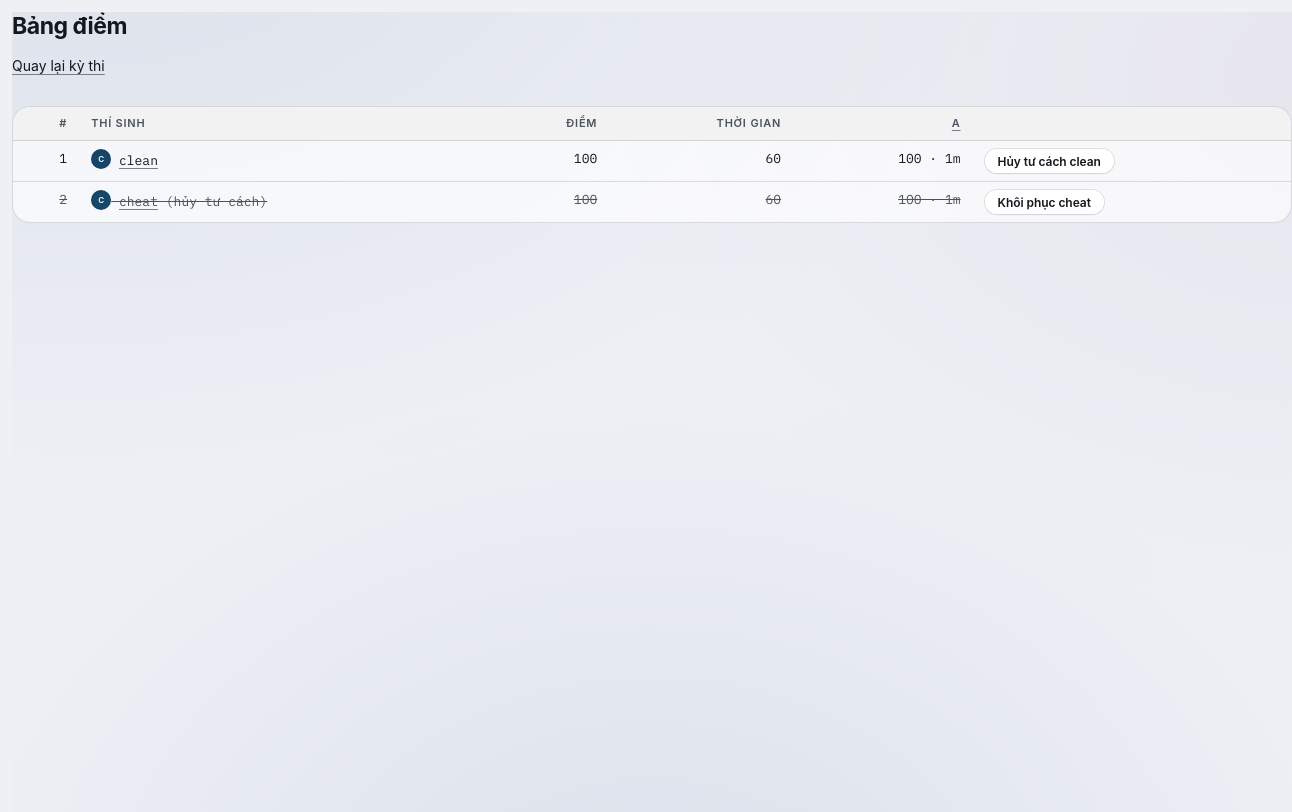
Test case: the DQ controls › report a refusal, and a transport failure never wedges the row
The image size is (1292, 812).
Click the button "Hủy tư cách clean".
click(1049, 162)  # box 985,150 -> 1114,174
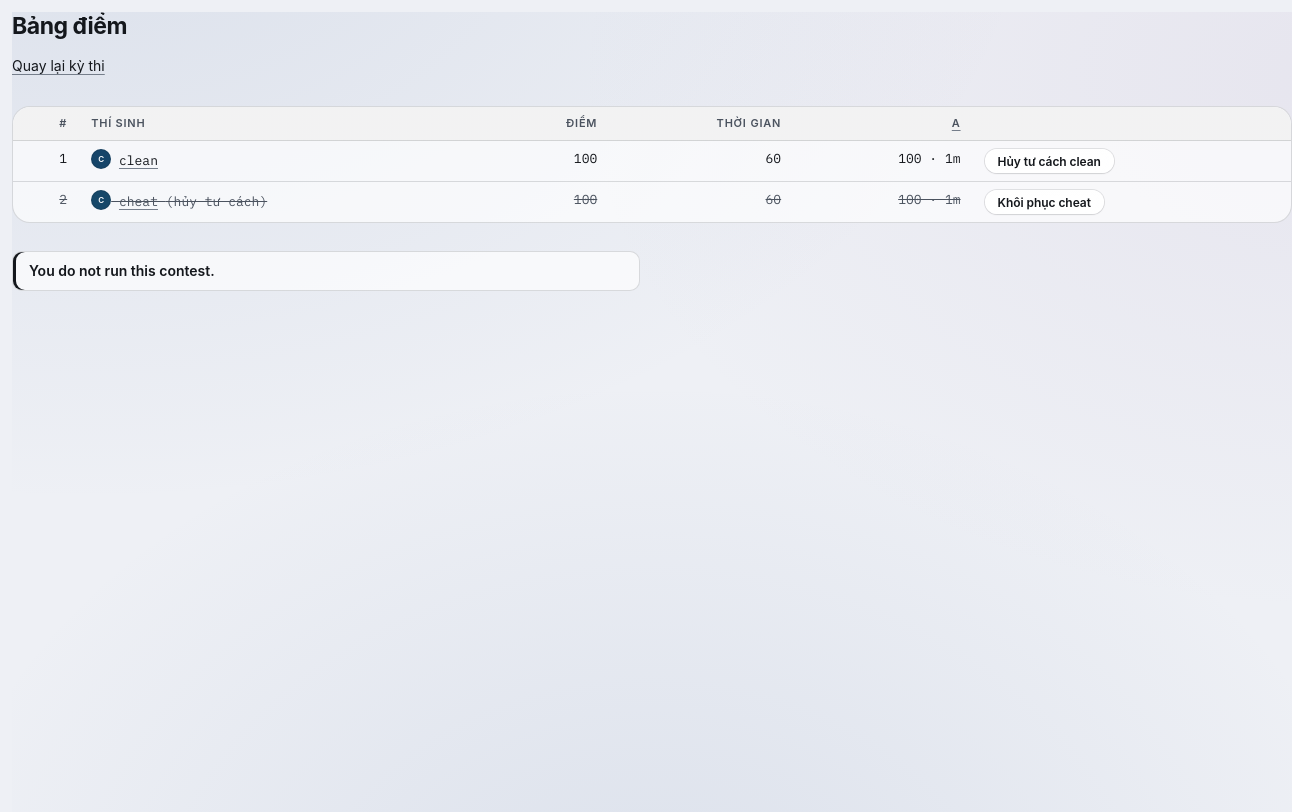
Expected: the message reads "You do not run this contest.", 29,262 -> 215,280
Click the button "Khôi phục cheat".
click(1044, 202)  # box 985,190 -> 1104,214
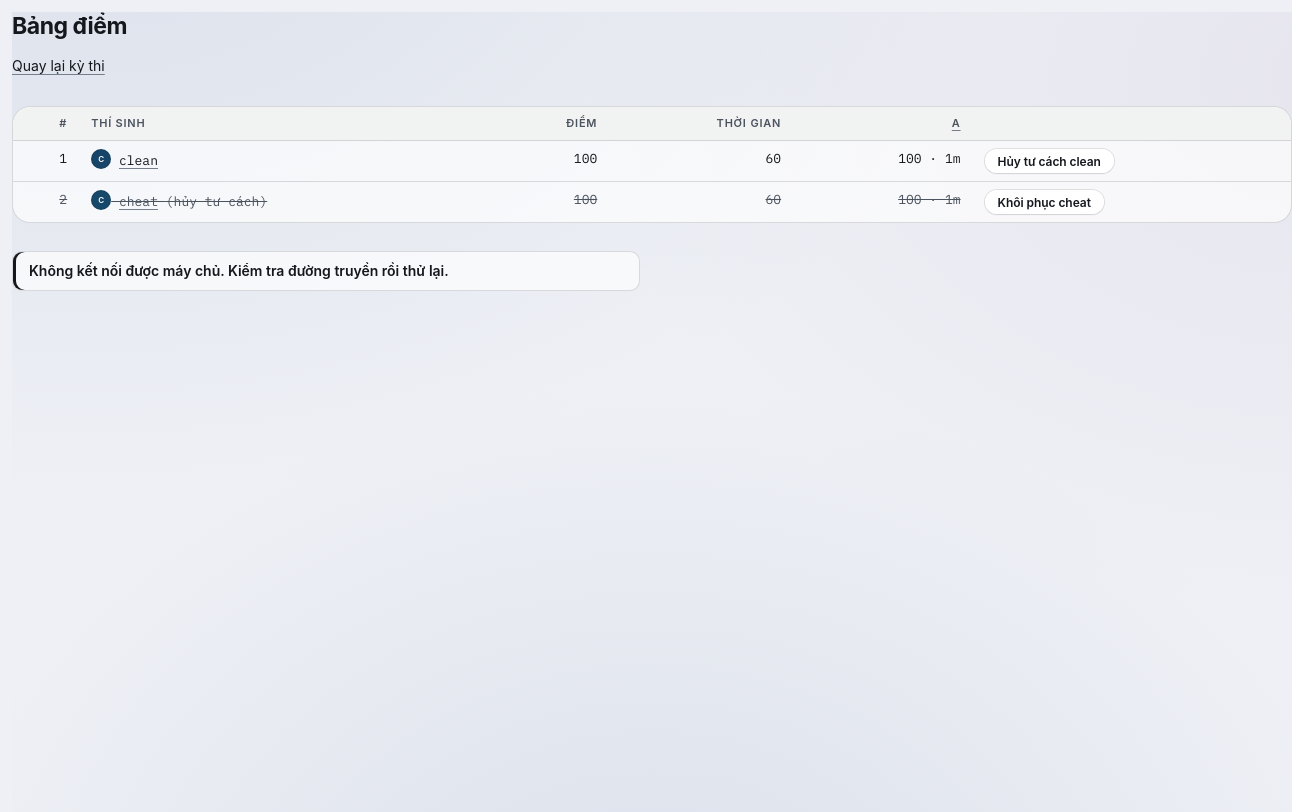
Expected: the message shows "Không kết nối được máy chủ", 29,262 -> 449,280
